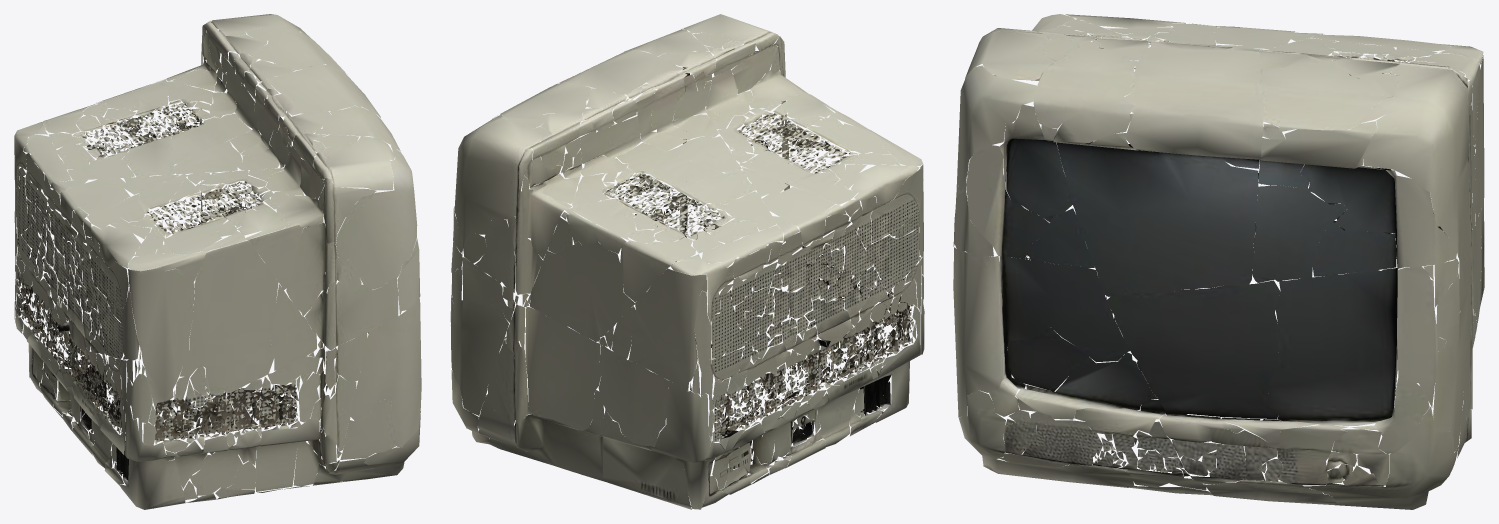
The model's file is crt_tv.glb.
3 renders of one model, left to right at view 1: azimuth 30°, elevation 25°; view 2: azimuth 150°, elevation 25°; view 3: azimuth 270°, elevation 25°, orthographic. The views are drawn at different scales.
Parts seen in each view (by area): view 1: prop_crt_tv; view 2: prop_crt_tv; view 3: prop_crt_tv.
Boxes of the visible parts, x1,y1,x2,y2 form: prop_crt_tv: (14, 14, 421, 509); prop_crt_tv: (450, 14, 924, 509); prop_crt_tv: (953, 14, 1484, 509).
Bounding box in the file's own units: 0.8697 × 0.8283 × 0.9799.
Materials: 1 (1 with a texture image).
